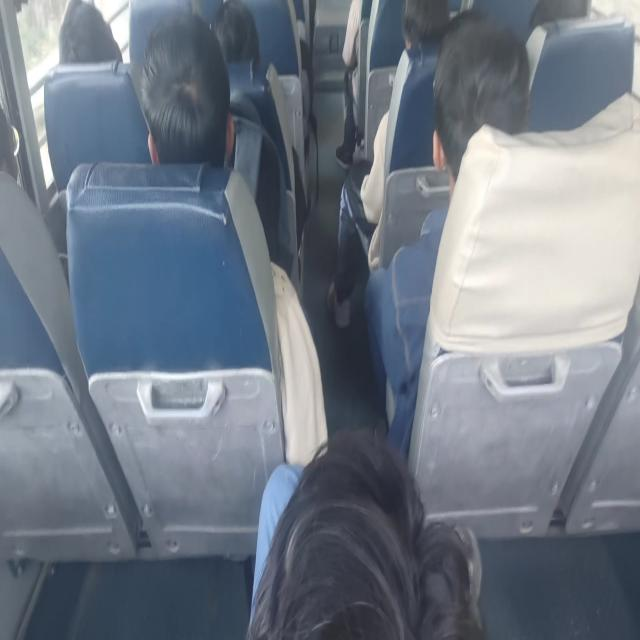person: (253, 438, 468, 640), (435, 22, 543, 203), (145, 41, 235, 172), (199, 0, 275, 77), (387, 0, 462, 74), (54, 0, 117, 69), (521, 0, 598, 50), (0, 88, 28, 176)
